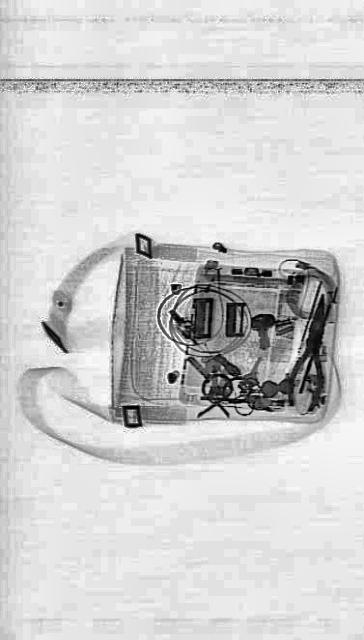Pliers: (282, 285, 340, 417)
